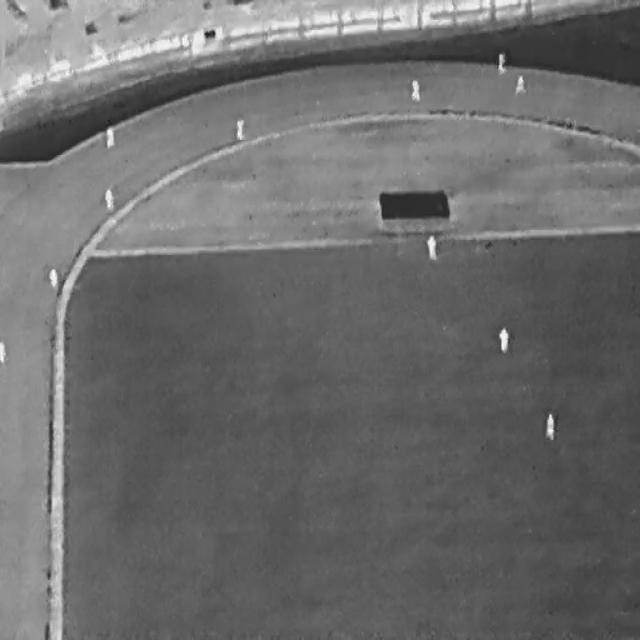Person: (498, 325, 508, 353), (426, 234, 436, 260), (545, 411, 554, 439), (497, 51, 507, 74), (515, 74, 526, 94), (104, 186, 113, 209), (105, 125, 114, 147), (235, 118, 244, 140), (410, 79, 419, 100), (48, 268, 57, 288), (0, 340, 5, 361)
